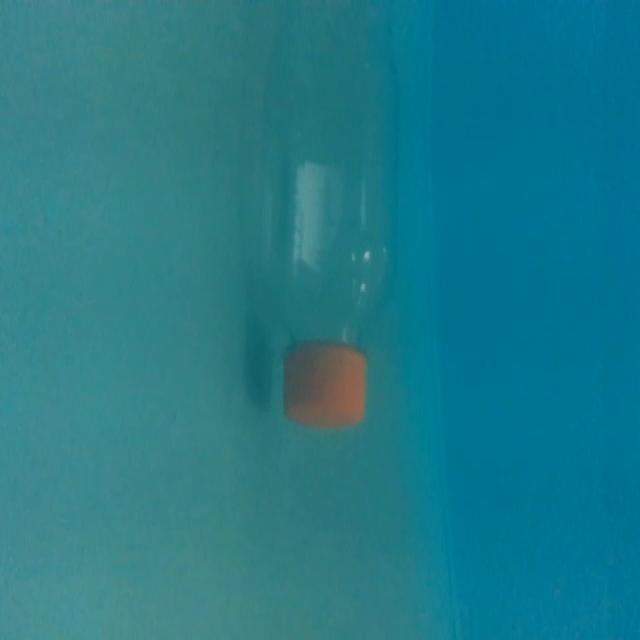plastic bottle: (253, 14, 404, 439)
